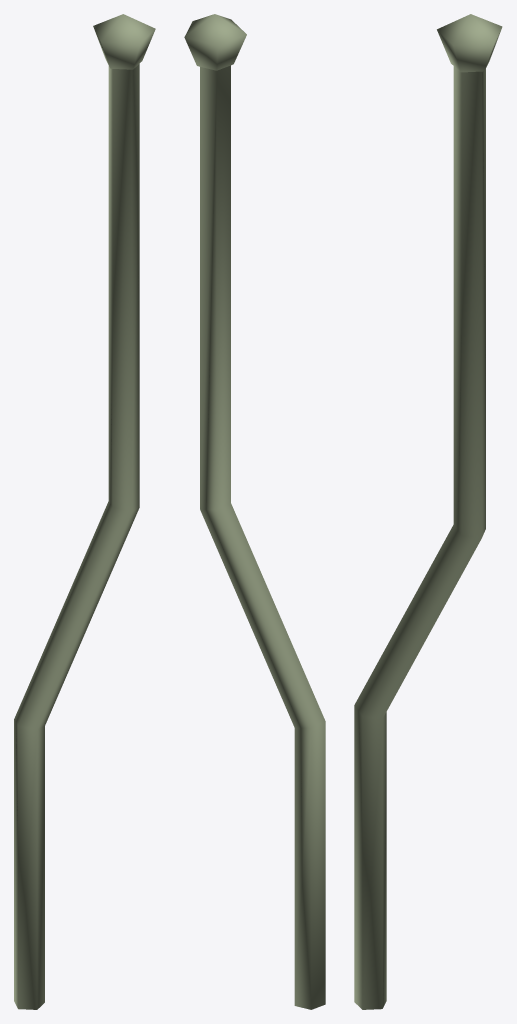
The model's file is original-148.obj.
3 renders of one model, left to right at view 1: azimuth 30°, elevation 25°; view 2: azimuth 150°, elevation 25°; view 3: azimuth 330°, elevation 25°, orthographic. The views are drawn at different scales.
Parts seen in each view (by area): view 1: Component_58_11/Component_58/mesh103/mesh103-geometry#mesh103-ge; view 2: Component_58_11/Component_58/mesh103/mesh103-geometry#mesh103-ge; view 3: Component_58_11/Component_58/mesh103/mesh103-geometry#mesh103-ge.
Part boxes in pixels (x1,y1,x2,y2): Component_58_11/Component_58/mesh103/mesh103-geometry#mesh103-ge: (14, 14, 155, 1009); Component_58_11/Component_58/mesh103/mesh103-geometry#mesh103-ge: (184, 14, 325, 1009); Component_58_11/Component_58/mesh103/mesh103-geometry#mesh103-ge: (354, 14, 502, 1009).
Size of the model in its own units: 0.0213 by 0.1453 by 0.00818.
